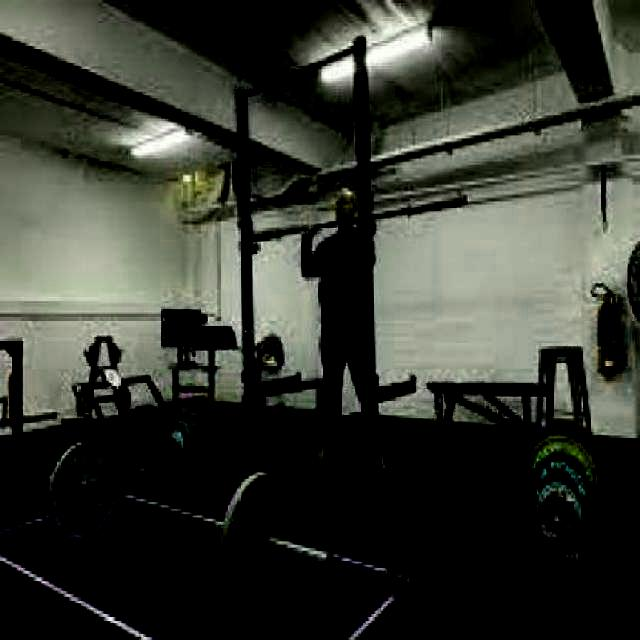barbell: (212, 472, 335, 615)
